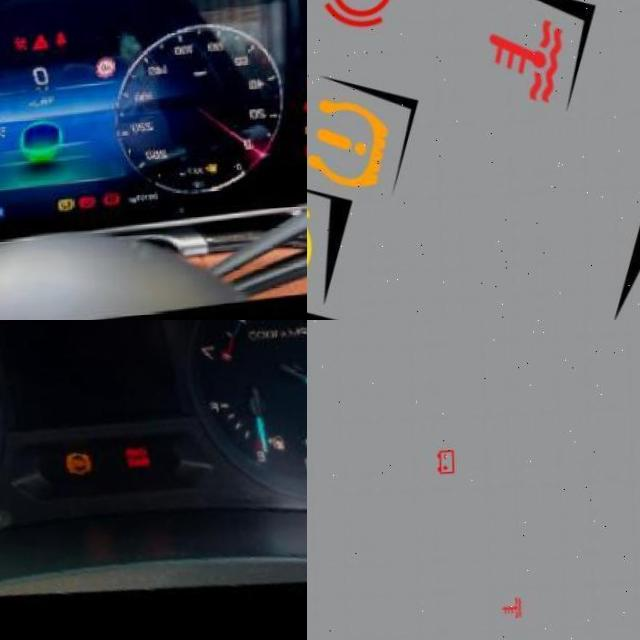Seat Belt: (56, 31, 71, 48)
